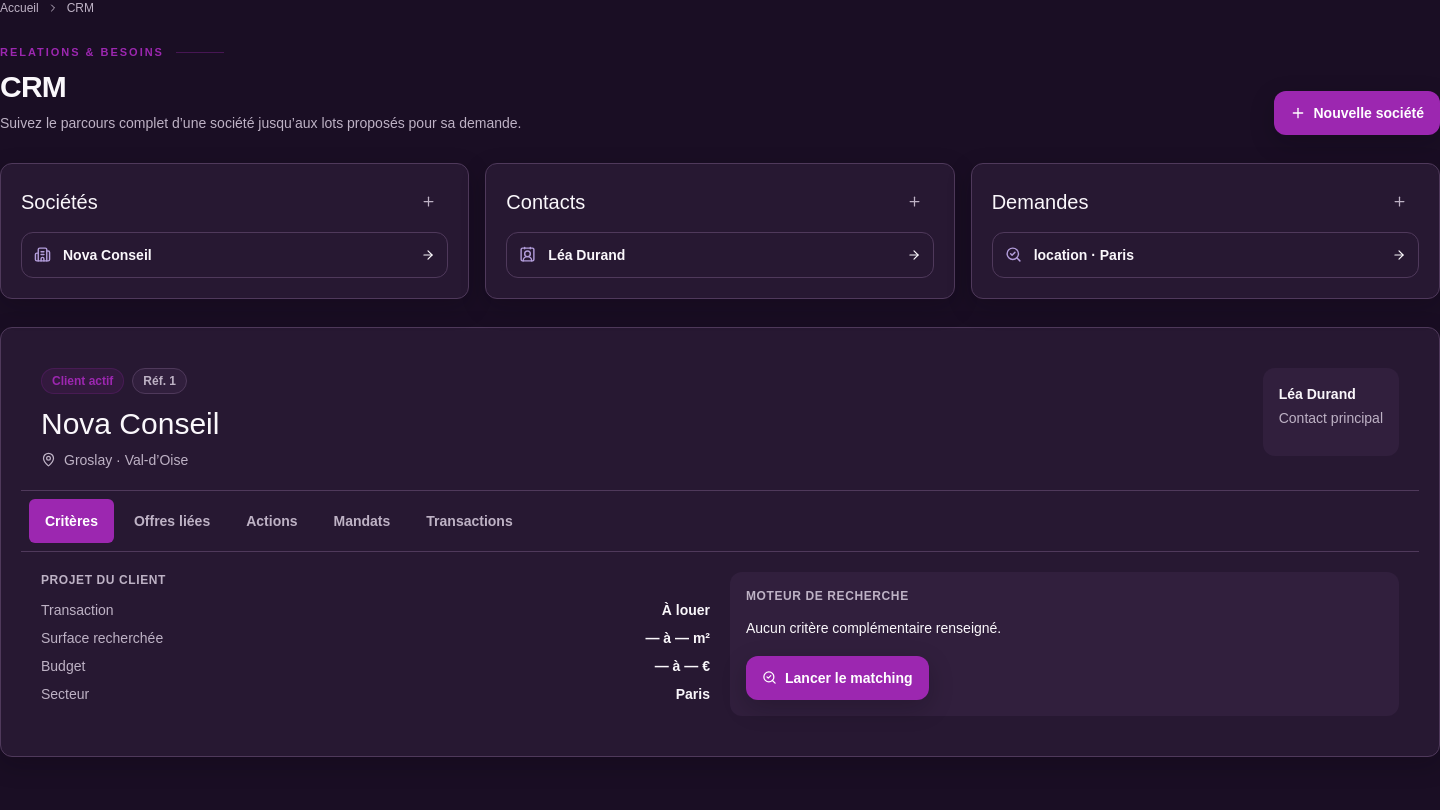
Scenario: la fiche relation ouvre ses vues liées
Check: the navigation bar named "Vues de la relation" is shown, box [21, 490, 1419, 552]
Click the button "Offres liées". click: coordinates (172, 520)
box: [118, 498, 226, 542]
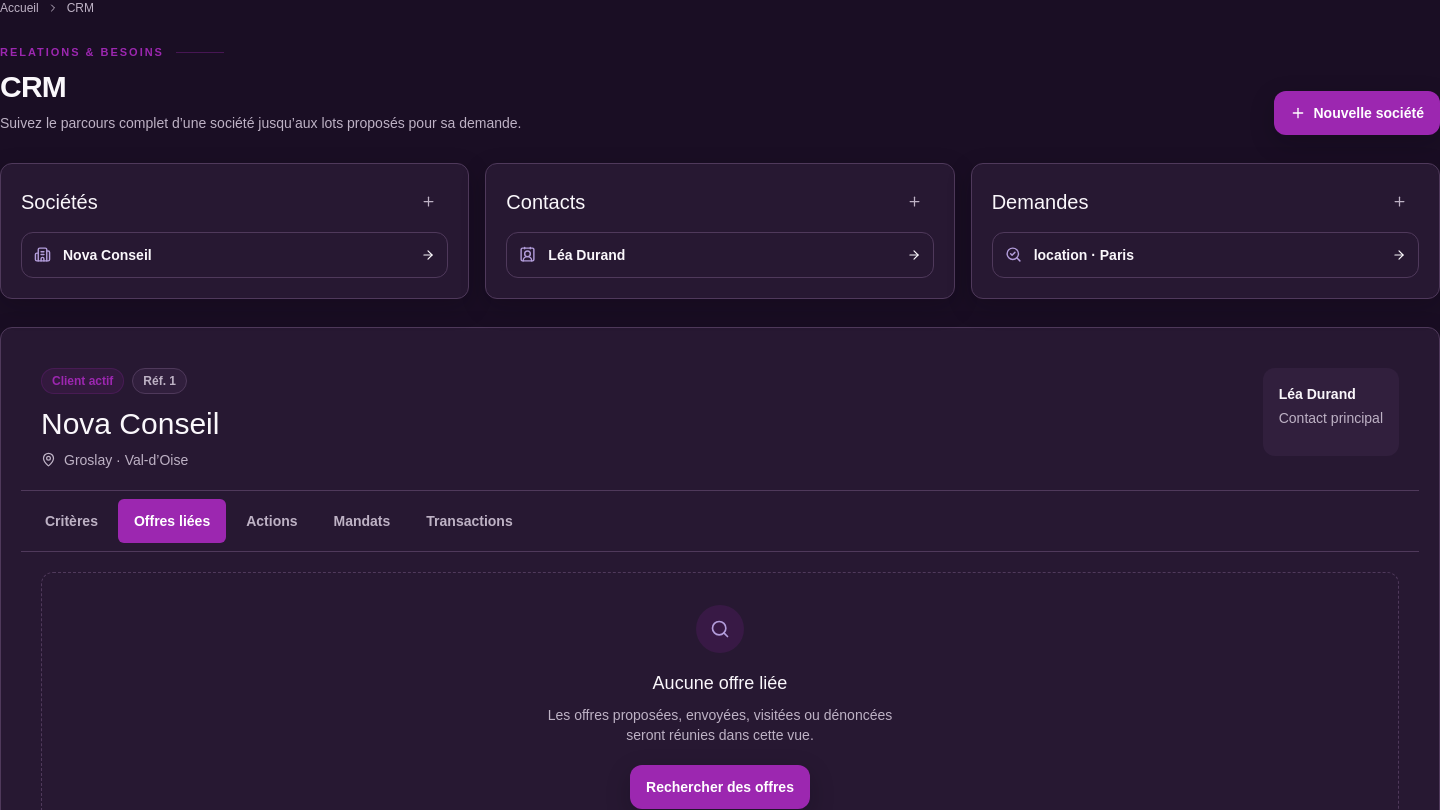
Check: the heading "Aucune offre liée" is shown, box [653, 672, 787, 692]
Click the button "Actions". click: coordinates (272, 520)
box: [230, 498, 314, 542]
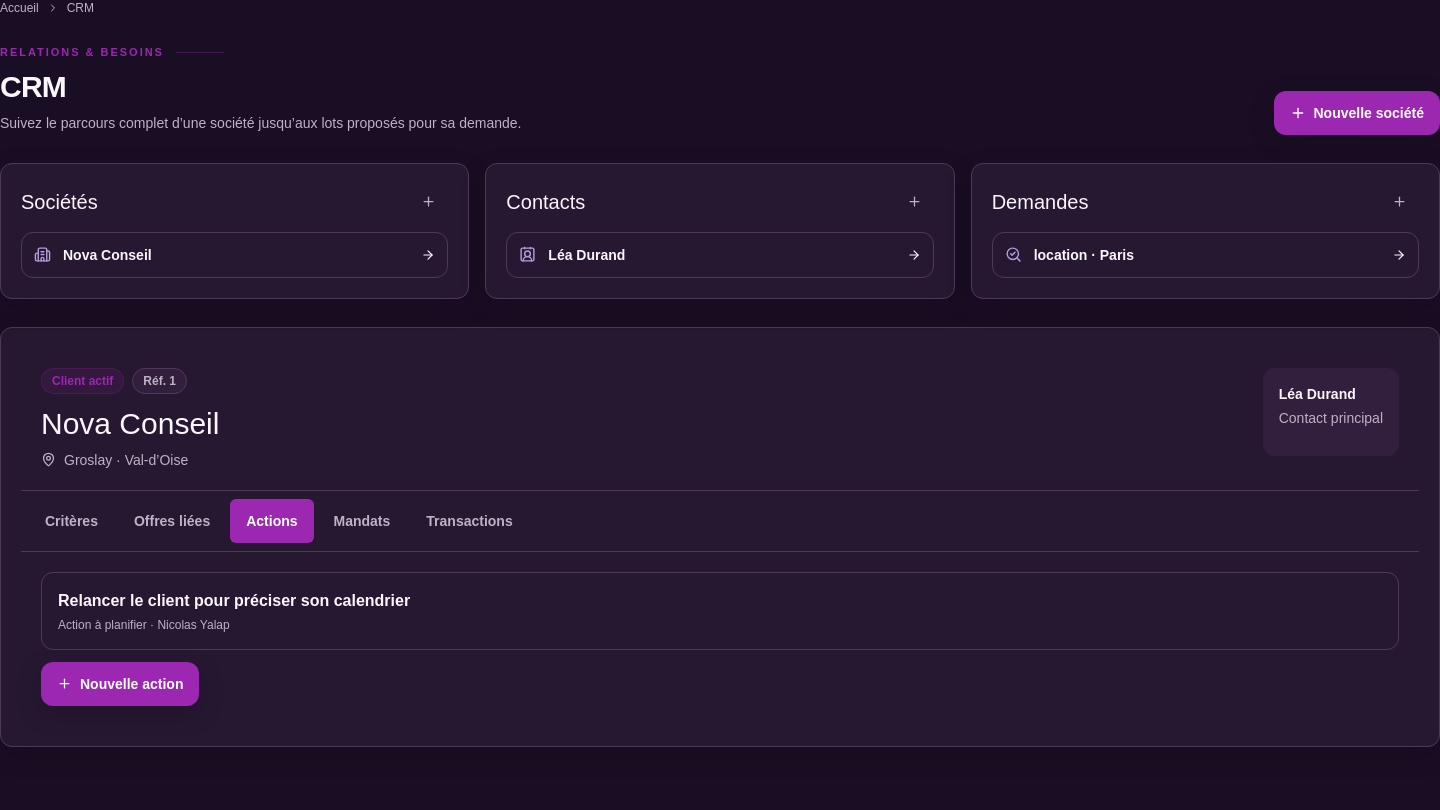
Check: the text "Relancer le client pour préciser son calendrier" is shown, box [58, 592, 410, 608]
Click the button "Transactions". click: coordinates (470, 520)
box: [410, 498, 529, 542]
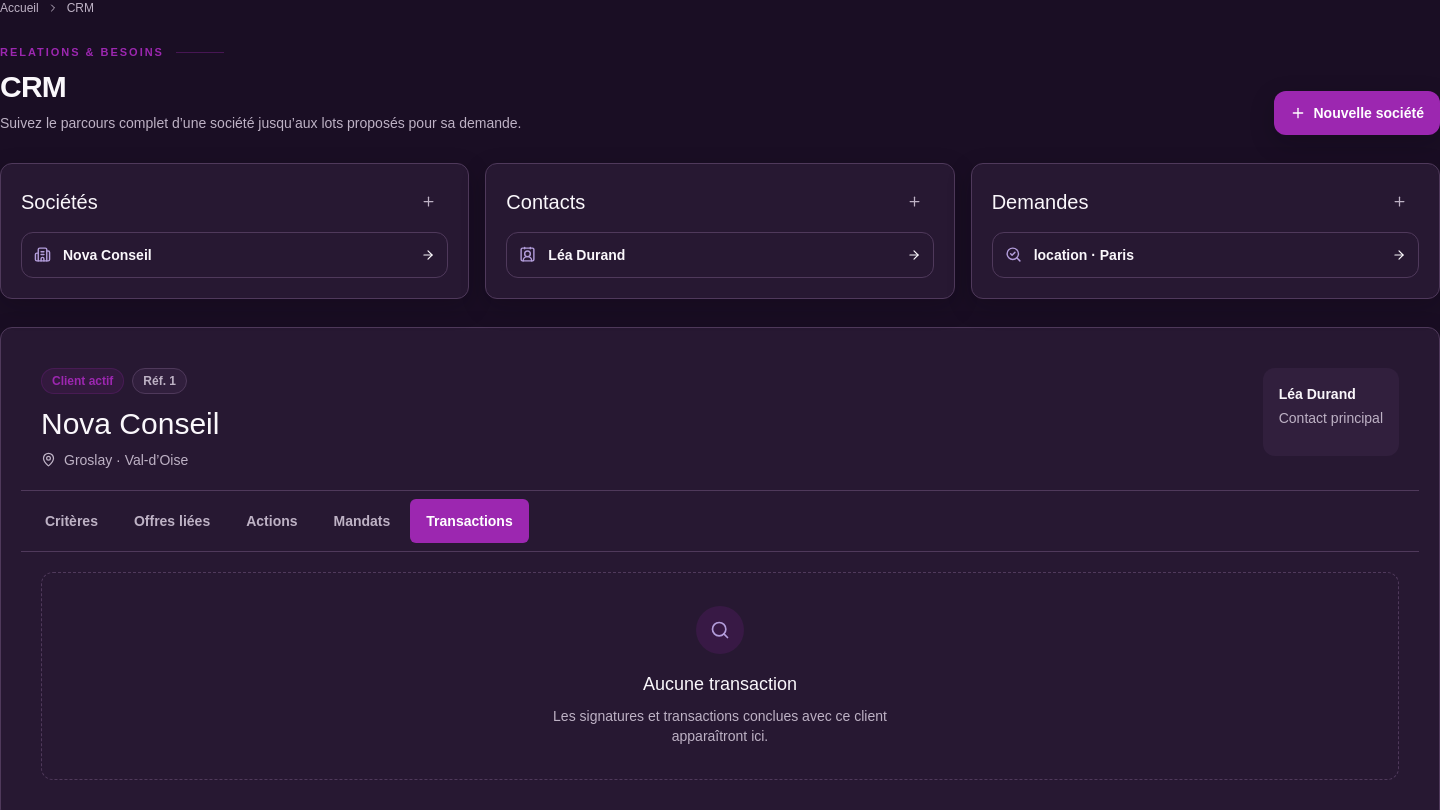
Check: the heading "Aucune transaction" is shown, box [643, 674, 797, 694]
